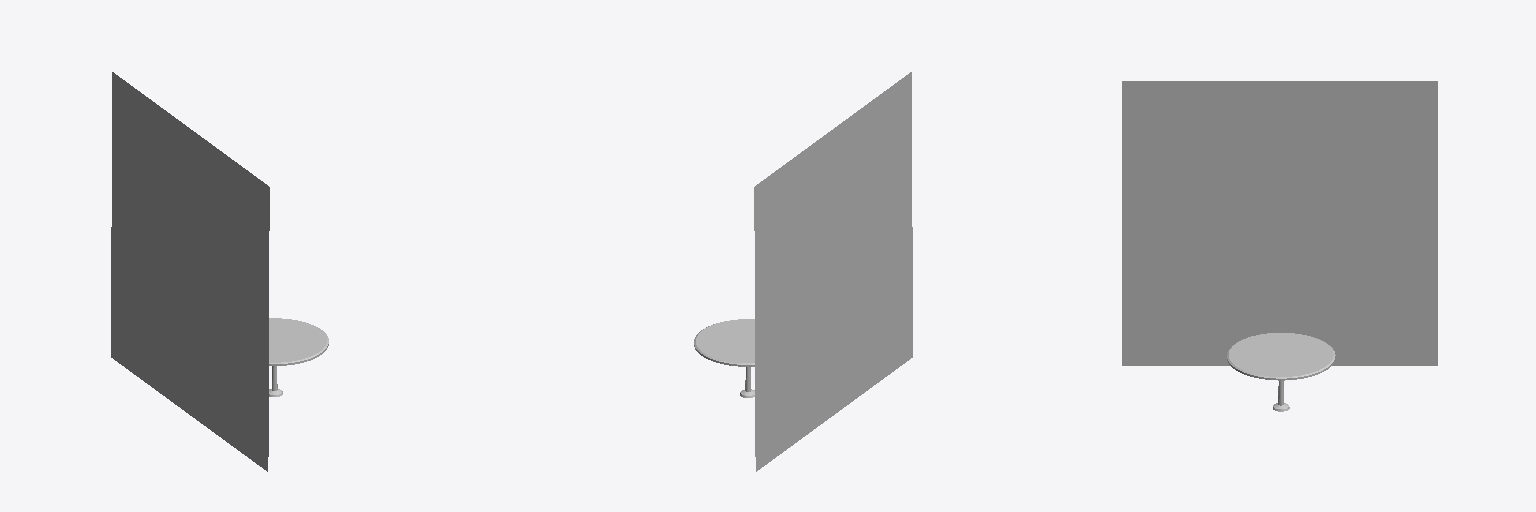
The model's file is uploads_files_3569713_circle+table+.obj.
3 views of the same model, side by side, from view 1: azimuth 30°, elevation 25°; view 2: azimuth 150°, elevation 25°; view 3: azimuth 270°, elevation 25° (orthographic).
Visible parts, largest first — view 1: Plane.001, Cylinder; view 2: Plane.001, Cylinder; view 3: Plane.001, Cylinder.
Part boxes in pixels (bbox=[...]): Plane.001: bbox=[111, 72, 269, 471]; Cylinder: bbox=[269, 318, 328, 396]; Plane.001: bbox=[754, 72, 912, 471]; Cylinder: bbox=[694, 319, 754, 397]; Plane.001: bbox=[1122, 81, 1437, 365]; Cylinder: bbox=[1227, 333, 1335, 411].
Size of the model in its own units: 8.65 by 17.8 by 17.8.